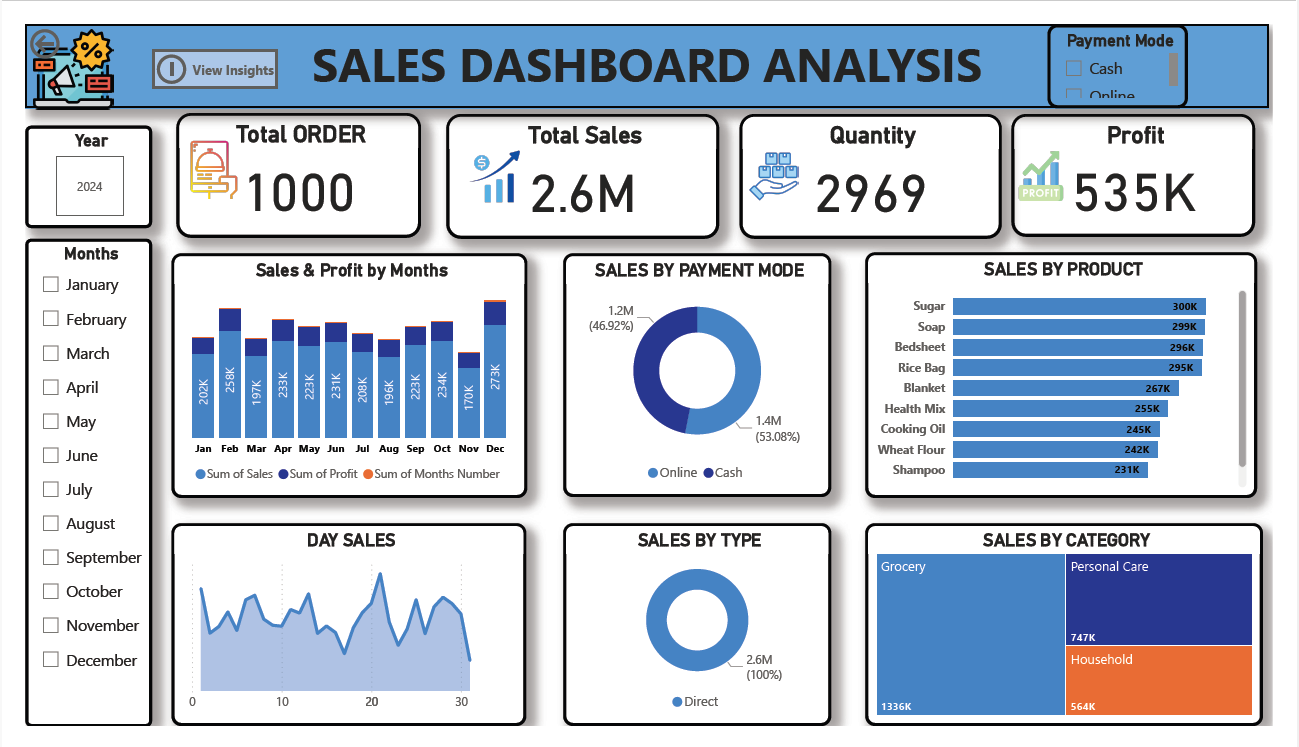

The page's visual inventory and layout, read from the dashboard file:
{"tool":"powerbi","page":{"name":"Sales DeshBoard","canvas":[1280,720],"ordinal":0},"visuals":[{"type":"card","title":"Total Sales","fields":{"Values":["Date_Table.Total Sales"]},"box":[431.8,92.4,280.3,127.3],"z":0},{"type":"card","title":"Profit","fields":{"Values":["select","select1","Date_Table.Total Profit"]},"box":[1012.1,92.4,250,125.8],"z":1000},{"type":"card","title":"Profit","fields":{"Values":["Date_Table.Total Profit"]},"box":[937.5,344.9,270.4,131.2],"z":2000},{"type":"card","title":"Total ORDER","fields":{"Values":["Sales_Data.Total Order ID"]},"box":[155.4,90.7,251,127.9],"z":3000},{"type":"columnChart","title":"Sales & Profit by Months","fields":{"Y":["Sum(Sales_Data.Sales)","Sum(Sales_Data.Profit)","Sum(Date_Table.Months Number)"],"Category":["Date_Table.Month"]},"box":[150,234.8,365.2,251.5],"z":4000},{"type":"donutChart","title":"SALES BY PAYMENT MODE","fields":{"Category":["Sales_Data.Payment_Mode"],"Y":["Sum(Sales_Data.Sales)"]},"box":[551.5,234.8,275.8,250],"z":5000},{"type":"barChart","title":"SALES BY PRODUCT","fields":{"Category":["Sales_Data.Product"],"Y":["Date_Table.Total Sales"]},"box":[861.8,234.2,402.6,251.3],"z":6000},{"type":"donutChart","title":"SALES BY TYPE","fields":{"Category":["Sales_Data.Sales_Type"],"Y":["Sum(Sales_Data.Sales)"]},"box":[551.5,512.1,275.8,207.6],"z":7000},{"type":"treemap","title":"SALES BY CATEGORY","fields":{"Group":["Sales_Data.Category"],"Values":["Sum(Sales_Data.Sales)"]},"box":[861.8,511.8,407.9,207.9],"z":8000},{"type":"areaChart","title":"DAY SALES","fields":{"Y":["Sum(Sales_Data.Sales)"],"Category":["Date_Table.Date.Variation.Date Hierarchy.Day"]},"box":[150,511.8,364.5,207.9],"z":9000},{"type":"slicer","title":"Year","fields":{"Values":["Date_Table.Year"]},"box":[0,103.6,129.5,105.2],"z":10000},{"type":"slicer","title":"Months","fields":{"Values":["Date_Table.Date.Variation.Date Hierarchy.Month"]},"box":[0,220.2,129.5,500.3],"z":11000},{"type":"textbox","box":[0,0,1276,85.8],"z":12000},{"type":"slicer","title":"Payment Mode","fields":{"Values":["Sales_Data.Payment_Mode"]},"box":[1049.3,0,144.1,85.8],"z":13000},{"type":"image","box":[730.3,123.1,68,66.4],"z":14000},{"type":"card","title":"Quantity","fields":{"Values":["Date_Table.Total Quantity"]},"box":[733.3,92.4,268.2,127.3],"z":15000},{"type":"image","box":[1012.1,124.2,60.6,62.1],"z":16000},{"type":"image","box":[733.5,126.3,68,59.9],"z":17000},{"type":"image","box":[448.5,123.1,66.4,66.4],"z":18000},{"type":"image","box":[155.4,113.3,76.1,72.9],"z":19000},{"type":"image","box":[0,0,98.5,92.4],"z":20000},{"type":"actionButton","box":[129.5,25.9,129.5,40.5],"z":21000},{"type":"actionButton","box":[0,0,100,40],"z":22000}]}

Visuals, with their boxes in screenshot pixels (x1, y1, x2, y2), scaled from the page's 1280x720 canvas onto the 1299x747 screenshot:
"Total Sales" card: box(438, 96, 723, 228)
"Profit" card: box(1027, 96, 1281, 226)
"Profit" card: box(951, 358, 1226, 494)
"Total ORDER" card: box(158, 94, 412, 227)
"Sales & Profit by Months" columnChart: box(152, 244, 523, 505)
"SALES BY PAYMENT MODE" donutChart: box(560, 244, 840, 503)
"SALES BY PRODUCT" barChart: box(875, 243, 1283, 504)
"SALES BY TYPE" donutChart: box(560, 531, 840, 746)
"SALES BY CATEGORY" treemap: box(875, 531, 1289, 746)
"DAY SALES" areaChart: box(152, 531, 522, 746)
"Year" slicer: box(0, 107, 131, 217)
"Months" slicer: box(0, 228, 131, 746)
textbox: box(0, 0, 1295, 89)
"Payment Mode" slicer: box(1065, 0, 1211, 89)
image: box(741, 128, 810, 197)
"Quantity" card: box(744, 96, 1016, 228)
image: box(1027, 129, 1089, 193)
image: box(744, 131, 813, 193)
image: box(455, 128, 523, 197)
image: box(158, 118, 235, 193)
image: box(0, 0, 100, 96)
actionButton: box(131, 27, 263, 69)
actionButton: box(0, 0, 101, 42)
